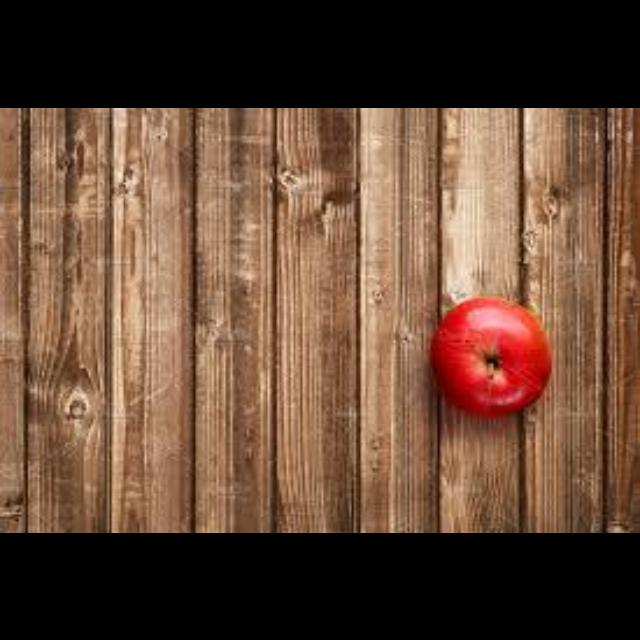apple: (431, 296, 549, 414)
